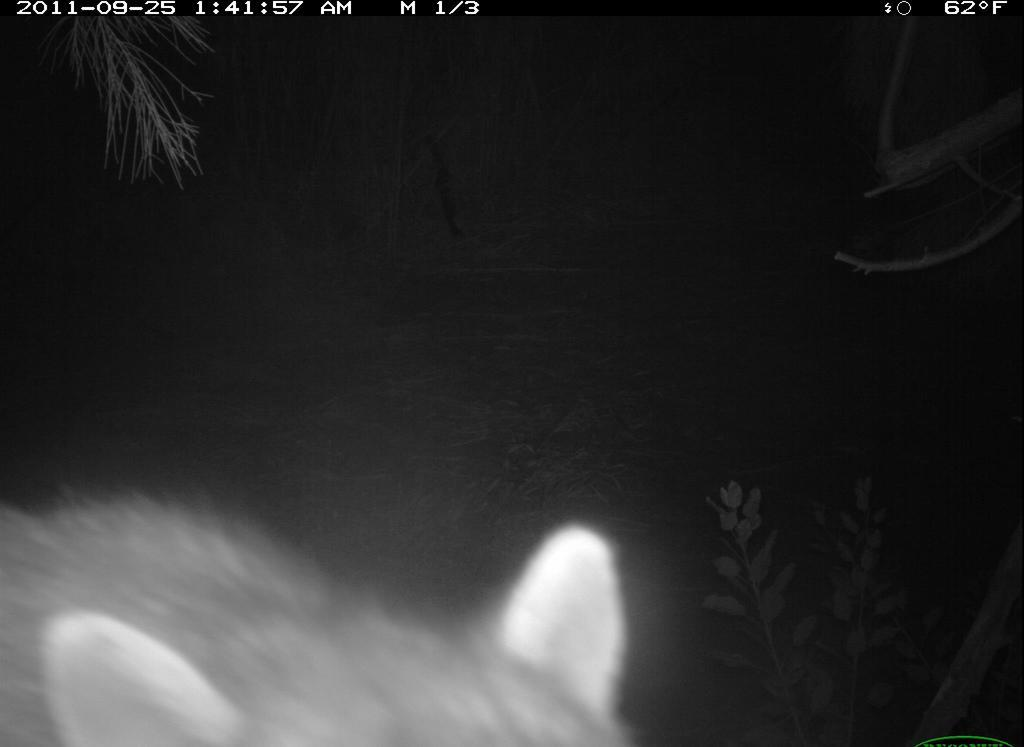raccoon: (2, 463, 661, 747)
